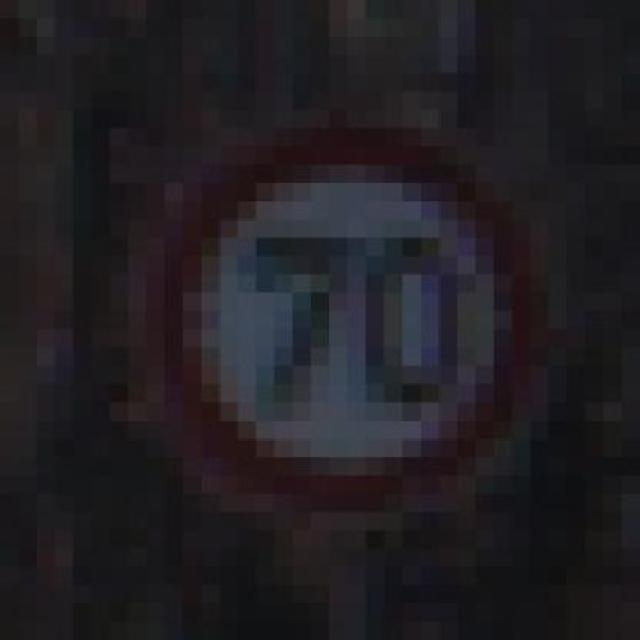forb_speed_over_70: (174, 135, 535, 508)
